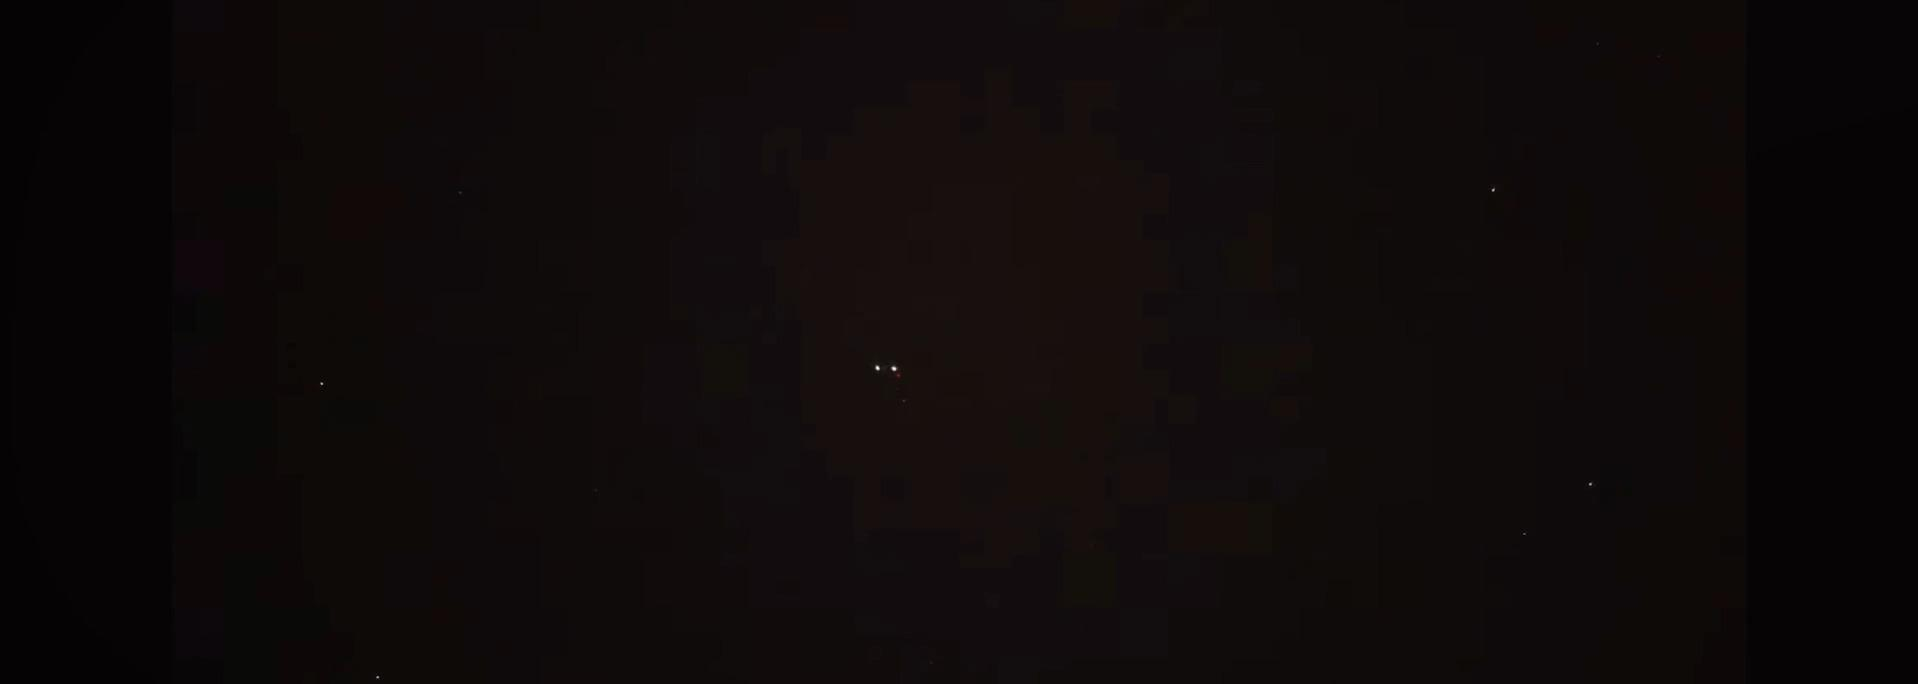Plane: (851, 352, 932, 392)
